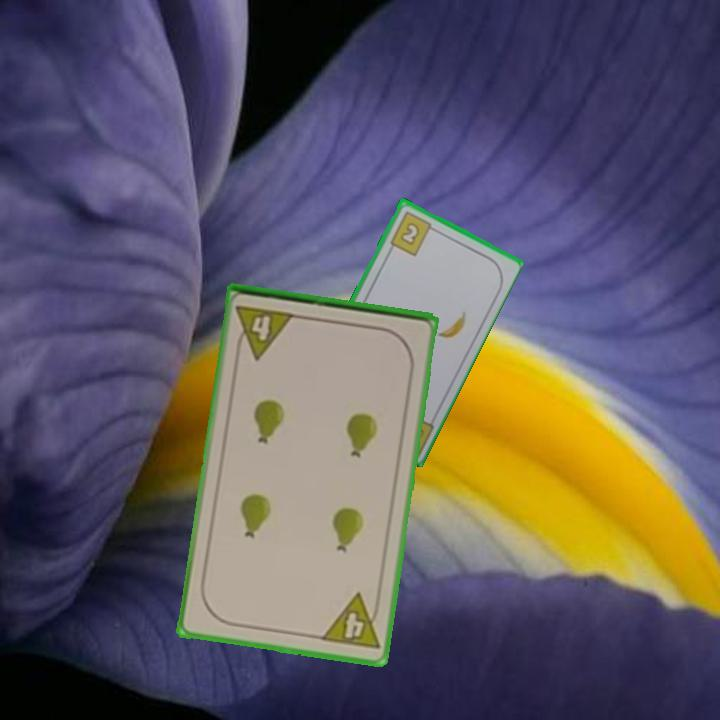2b: (386, 207, 439, 258)
4p: (317, 590, 384, 653), (232, 301, 298, 362)
